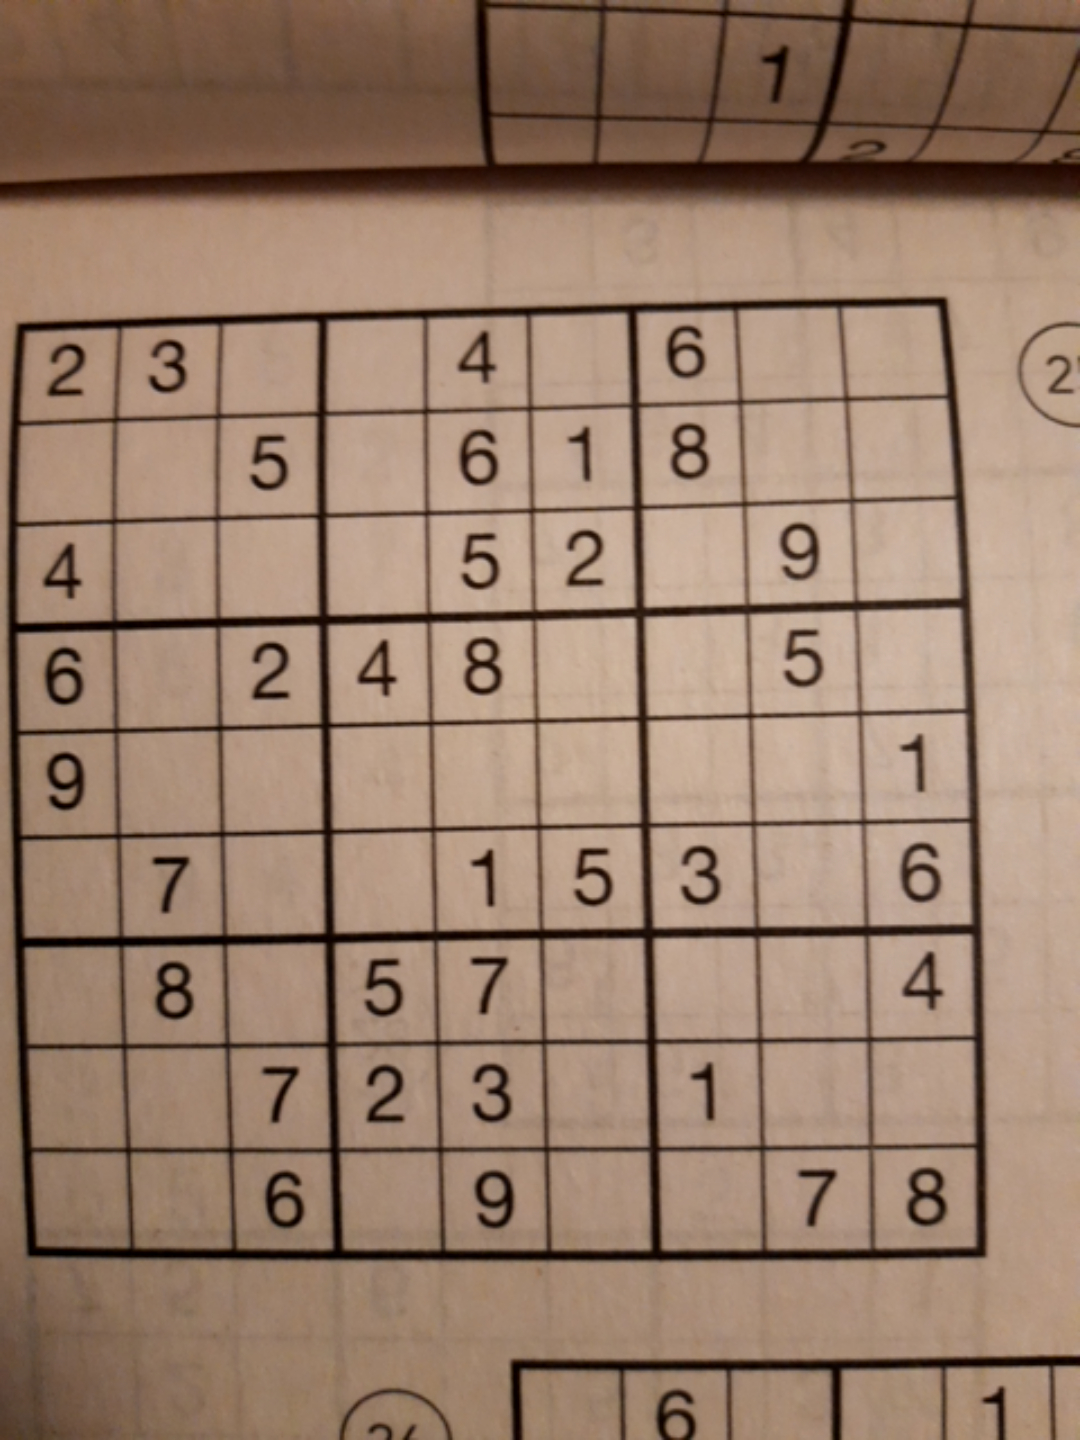sudoku: (10, 298, 985, 1261)
